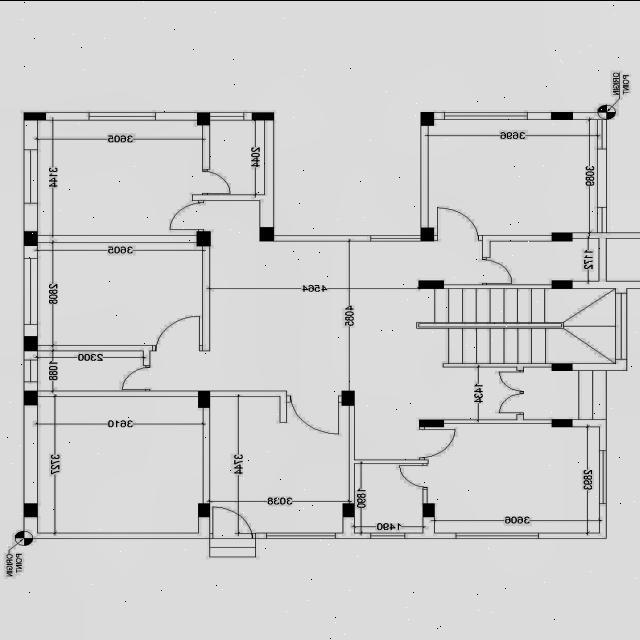Column: (24, 335, 38, 350), (23, 230, 38, 244), (197, 230, 210, 246), (418, 280, 444, 288), (419, 418, 444, 426), (24, 390, 38, 404), (420, 111, 434, 125), (198, 390, 210, 406), (24, 503, 38, 516), (260, 227, 274, 240), (420, 227, 434, 240), (24, 112, 46, 120), (252, 112, 274, 120), (551, 111, 573, 119), (197, 112, 210, 125), (198, 502, 210, 516), (342, 502, 354, 516), (342, 390, 354, 404), (422, 502, 434, 516), (552, 418, 572, 426), (552, 362, 572, 370), (552, 280, 572, 288), (552, 232, 572, 240)
Door: (286, 394, 342, 434), (152, 315, 202, 350), (434, 206, 482, 240), (210, 506, 256, 538), (419, 426, 455, 459), (170, 200, 204, 230), (482, 256, 512, 284), (122, 364, 150, 390), (202, 168, 230, 194), (399, 462, 427, 487)
Double-Door: (498, 369, 524, 414)
Staircase: (417, 288, 615, 362)
Window: (23, 258, 38, 324), (23, 148, 38, 202), (615, 292, 627, 358), (444, 111, 528, 119), (89, 112, 156, 120), (456, 532, 539, 538), (599, 449, 607, 503), (266, 532, 336, 538), (23, 359, 38, 381), (370, 234, 420, 240), (597, 118, 607, 148), (210, 112, 244, 120), (597, 206, 607, 232), (371, 532, 405, 538)
